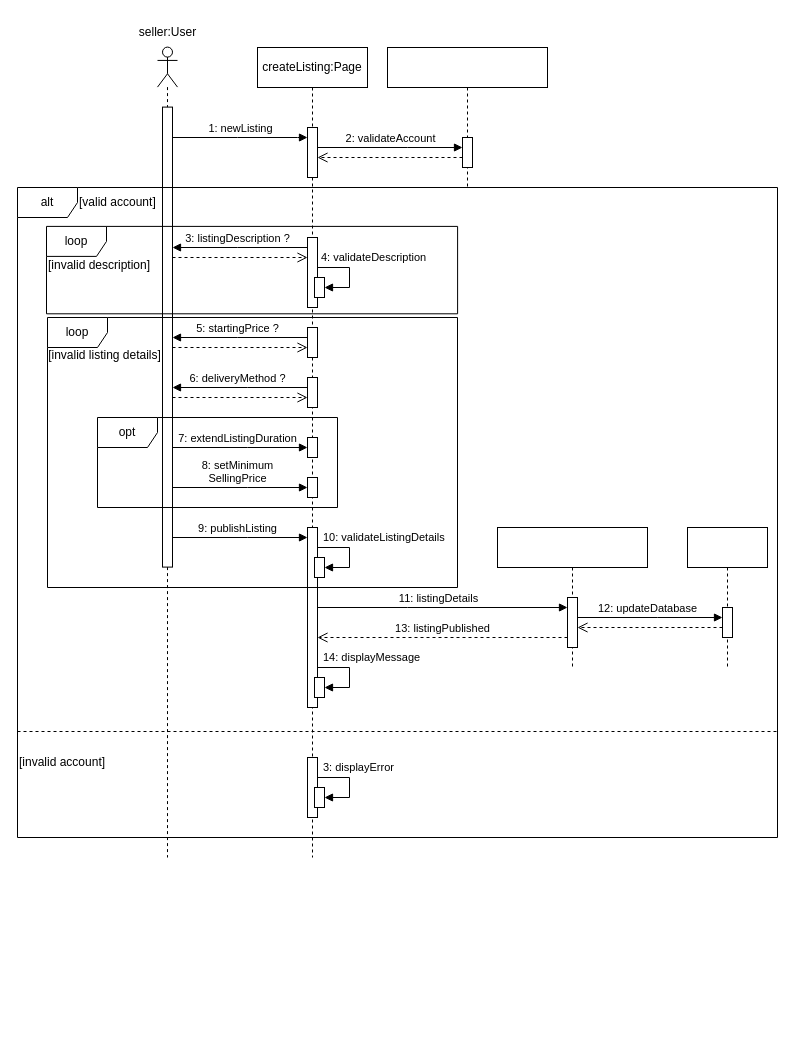
Image size: 795x1054. Some labels were removed from this diagram. Here are the shapes that lost their labels. From the top down, the centre of each, then its label:
At (x=467, y=117): ":AuthenticationController".
At (x=572, y=597): ":ProductListingController".
At (x=727, y=597): ":Database".
